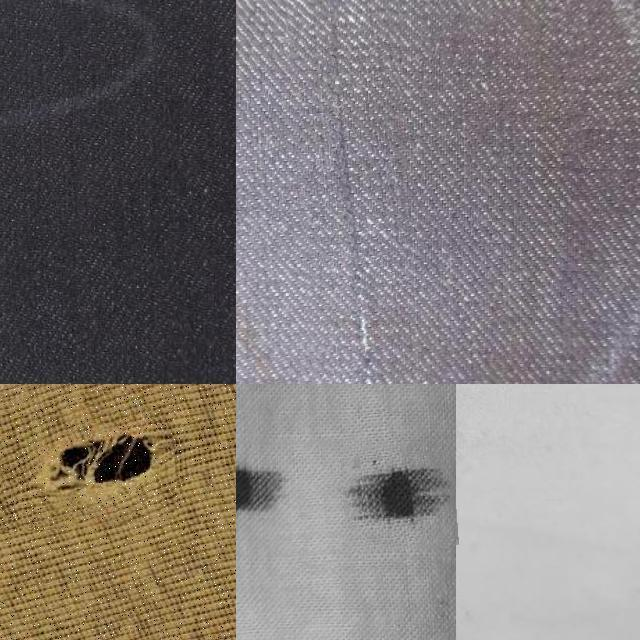Thread_other: (342, 442, 458, 550), (236, 436, 305, 535)
other: (0, 388, 177, 528)
stains: (290, 0, 416, 384)
